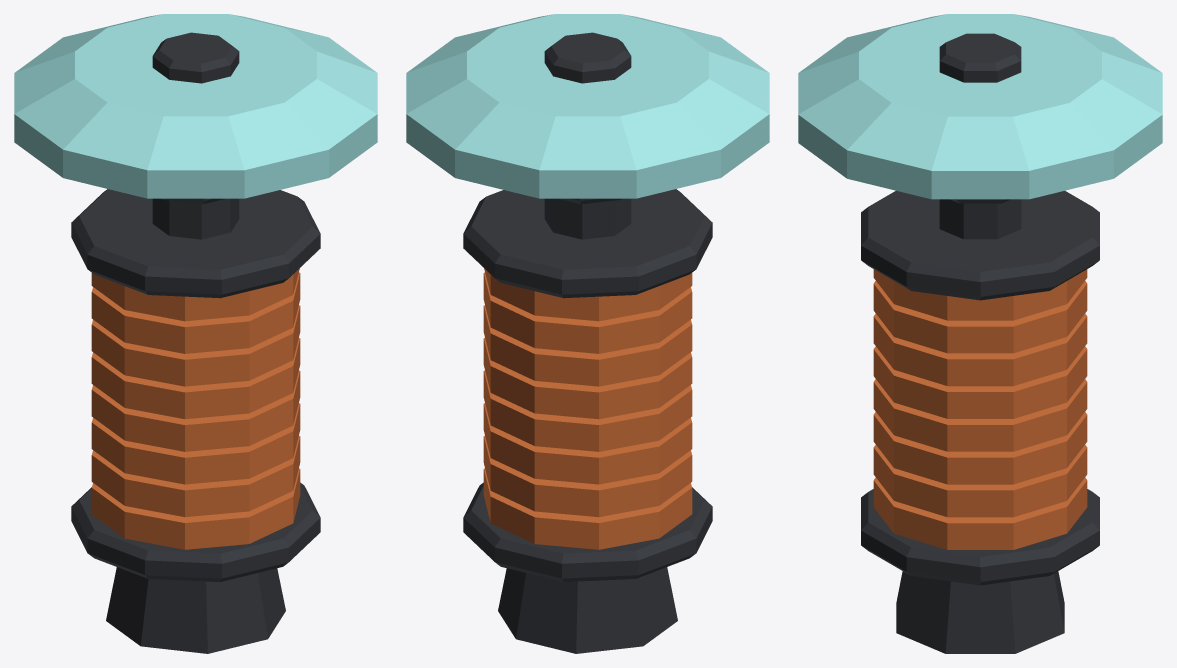
Rendered from TeslaB.obj.
3 views of the same model, side by side, from view 1: azimuth 30°, elevation 25°; view 2: azimuth 150°, elevation 25°; view 3: azimuth 270°, elevation 25° (orthographic).
Visible parts, largest first — view 1: TeslaB; view 2: TeslaB; view 3: TeslaB.
Boxes of the visible parts, x1,y1,x2,y2 form: TeslaB: (14,14,377,653); TeslaB: (406,14,769,653); TeslaB: (798,14,1162,653).
Size of the model in its own units: 0.6955 by 1.2 by 0.6955.
